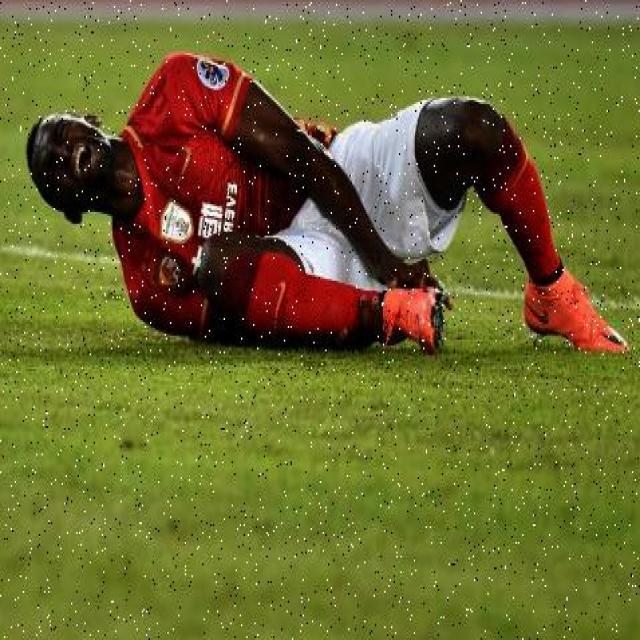fall: (29, 59, 624, 355)
